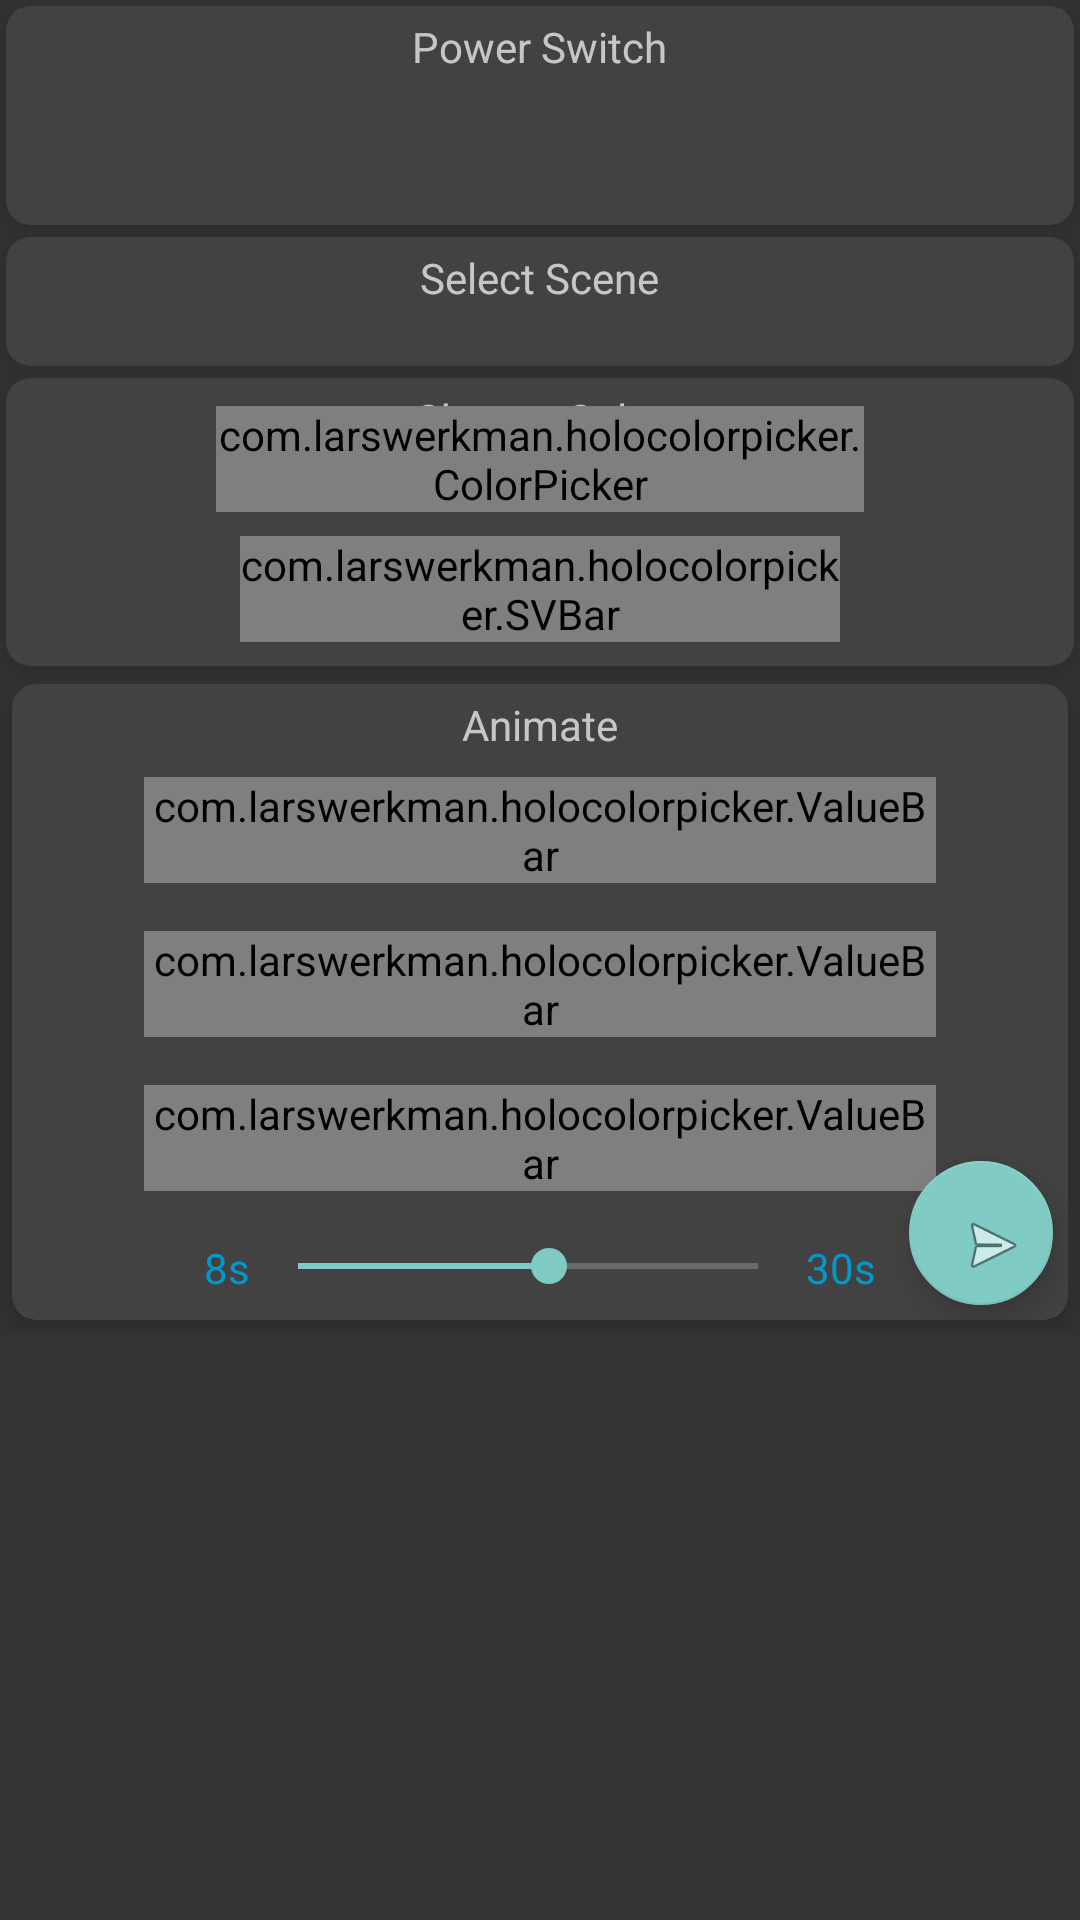

Screen size 1080 x 1920. Icon name, then its center in pixels as point (x, y):
send: point (981, 1233)
